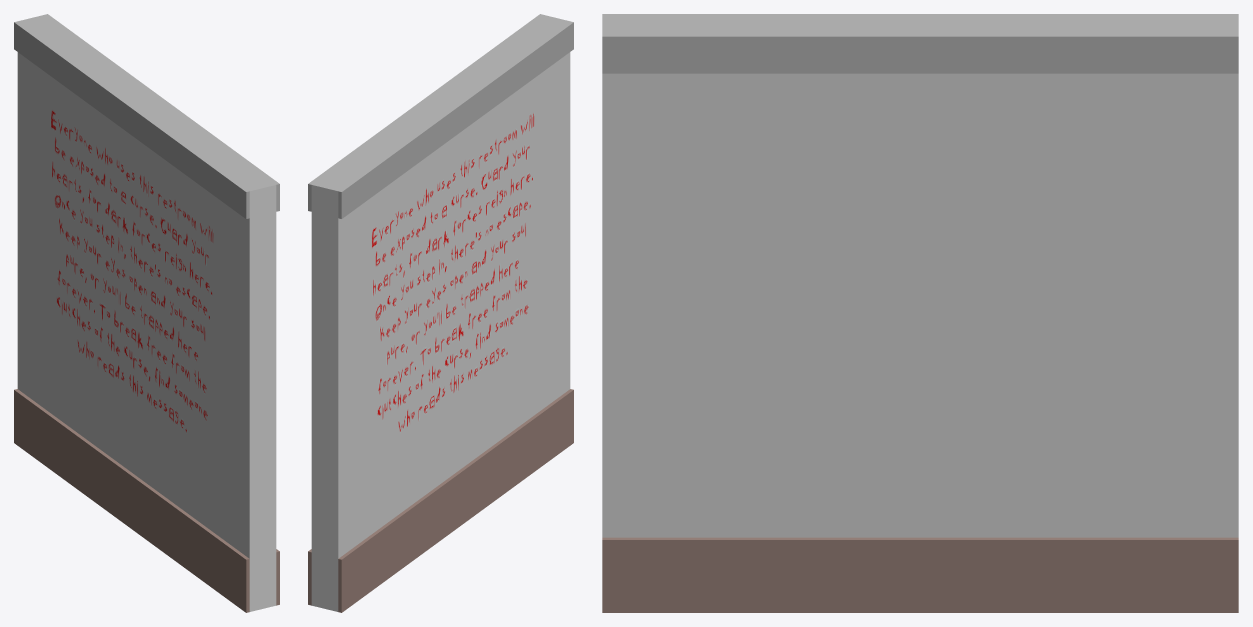
The model's file is Toilet Wall.fbx.
3 views of the same model, side by side, from view 1: azimuth 30°, elevation 25°; view 2: azimuth 150°, elevation 25°; view 3: azimuth 270°, elevation 25° (orthographic). The views are drawn at different scales.
Parts seen in each view (by area): view 1: Toilet Wall; view 2: Toilet Wall; view 3: Toilet Wall.
Boxes of the visible parts, x1,y1,x2,y2 form: Toilet Wall: [14, 14, 279, 612]; Toilet Wall: [308, 14, 573, 612]; Toilet Wall: [602, 14, 1238, 612].
Size of the model in its own units: 0.2519 by 3 by 3.
